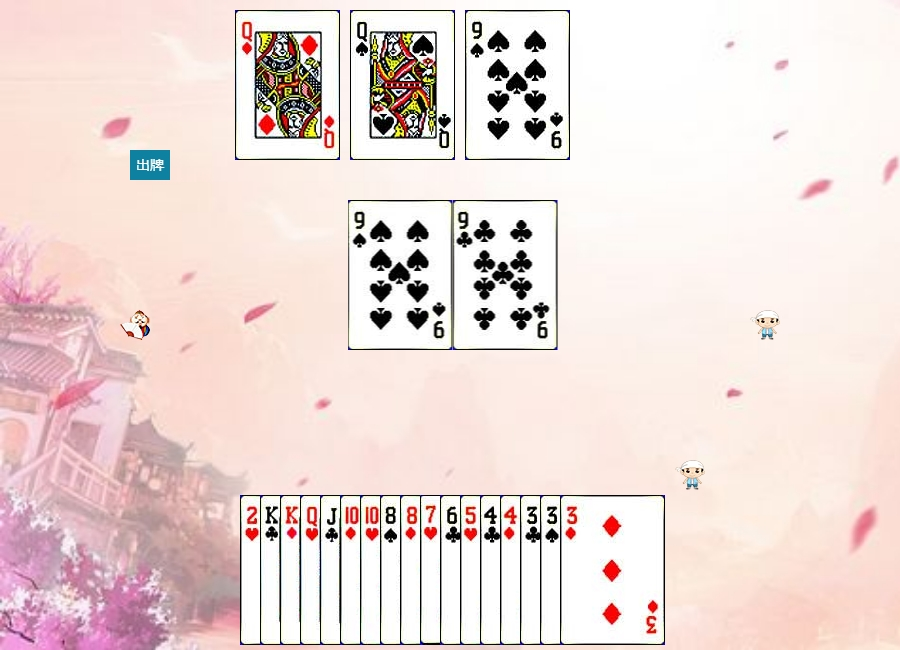10~1: (340, 495, 445, 645)
10~3: (360, 495, 465, 645)
11~2: (320, 495, 425, 645)
12~1: (235, 10, 340, 160)
12~3: (300, 495, 405, 645)
12~4: (350, 10, 455, 160)
13~1: (280, 495, 385, 645)
13~2: (260, 495, 365, 645)
15~3: (240, 495, 345, 645)
3~1: (560, 495, 665, 645)
3~2: (520, 495, 625, 645)
3~4: (540, 495, 645, 645)
4~1: (500, 495, 605, 645)
4~2: (480, 495, 585, 645)
5~3: (460, 495, 565, 645)
6~2: (440, 495, 545, 645)
7~3: (420, 495, 525, 645)
8~1: (400, 495, 505, 645)
8~4: (380, 495, 485, 645)
9~2: (453, 200, 558, 350)
9~4: (465, 10, 570, 160), (348, 200, 453, 350)
